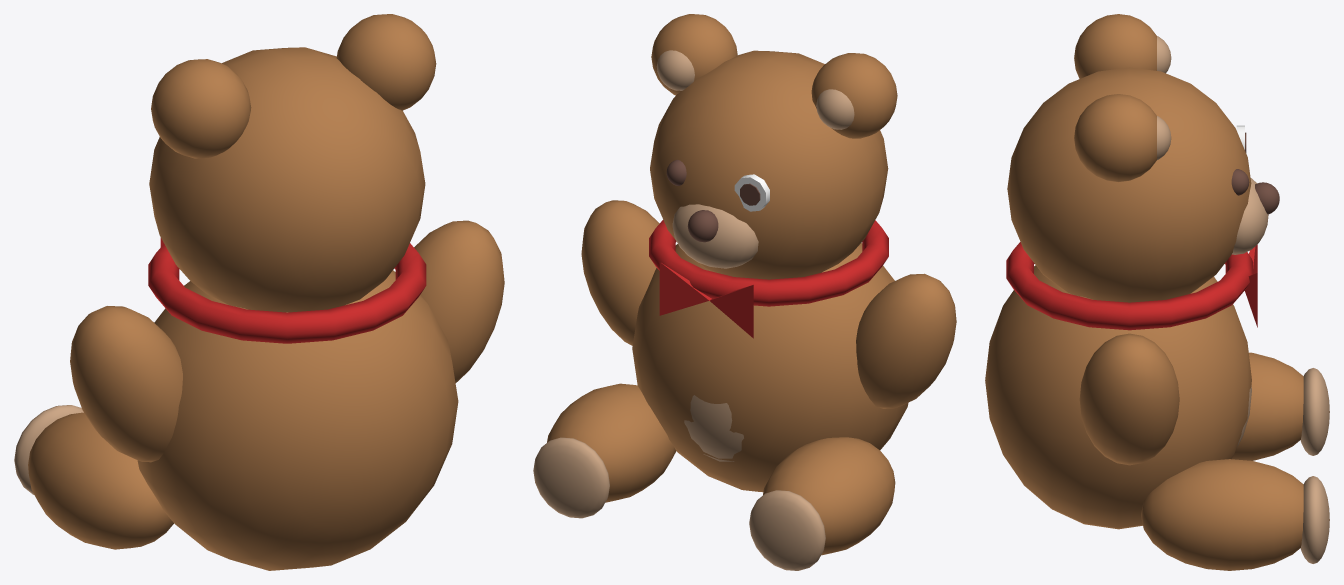
File: teddy.fbx
3 renders of one model, left to right at view 1: azimuth 30°, elevation 25°; view 2: azimuth 150°, elevation 25°; view 3: azimuth 270°, elevation 25°, orthographic. The views are drawn at different scales.
Parts seen in each view (by area): view 1: Mr. Buttons; view 2: Mr. Buttons; view 3: Mr. Buttons.
Boxes of the visible parts, box(x1,y1,x2,y2) form: Mr. Buttons: box(14, 14, 504, 570); Mr. Buttons: box(533, 14, 956, 570); Mr. Buttons: box(985, 14, 1329, 570).
Bounding box in the file's own units: 0.7753 × 0.91 × 0.62.
